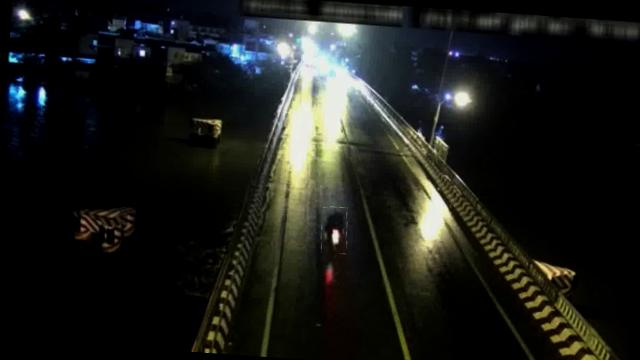Bike: (319, 206, 348, 254)
